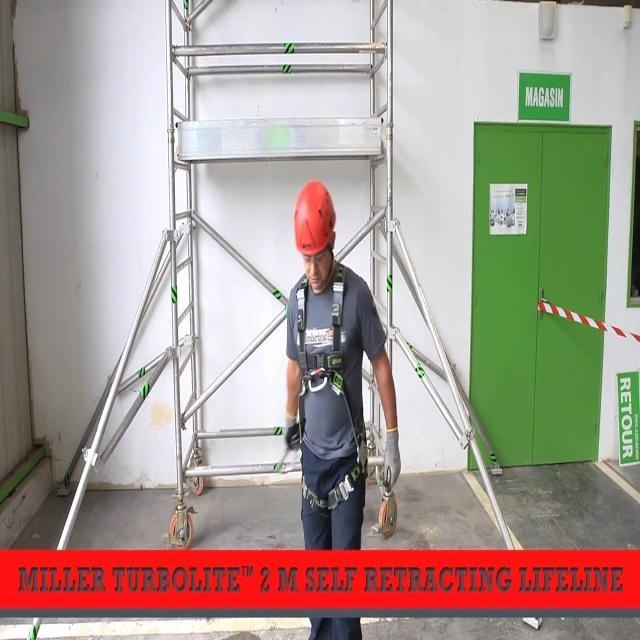Arnes_seguridad: (288, 268, 376, 516)
